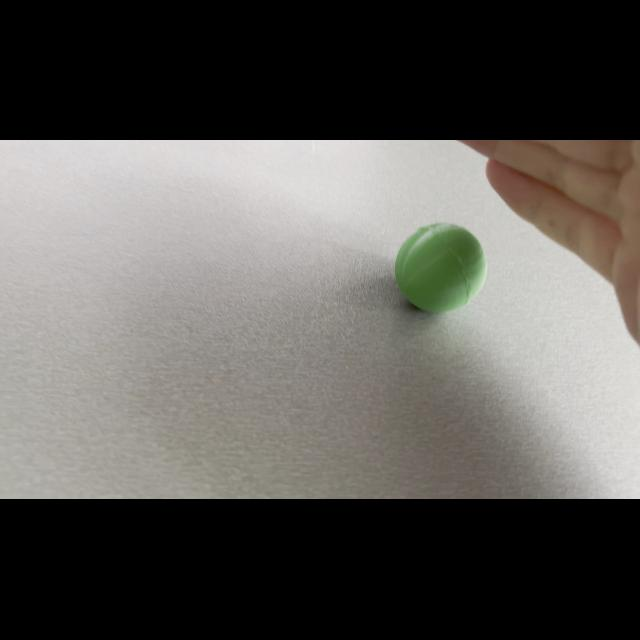objects: (384, 208, 496, 324)
